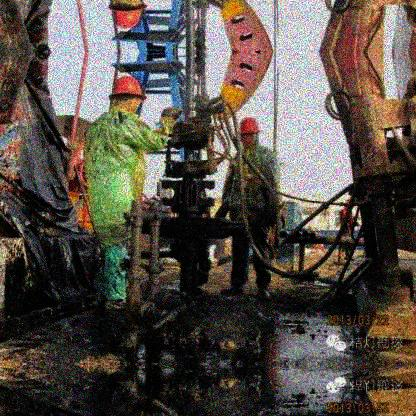helmet: (108, 75, 149, 115), (239, 118, 263, 148)
